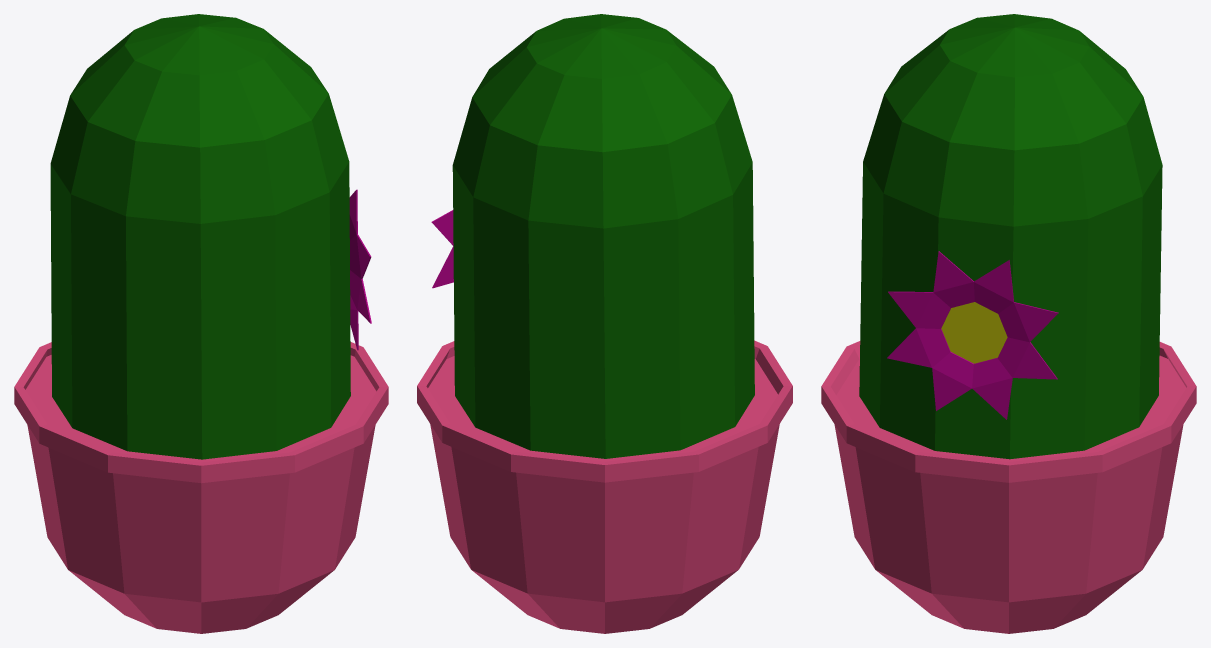
Rendered from cactus plant.fbx.
3 views of the same model, side by side, from view 1: azimuth 30°, elevation 25°; view 2: azimuth 150°, elevation 25°; view 3: azimuth 270°, elevation 25° (orthographic).
Parts seen in each view (by area): view 1: cactus plant; view 2: cactus plant; view 3: cactus plant.
Boxes of the visible parts, x1=… form: cactus plant: x1=14, y1=14, x2=388, y2=633; cactus plant: x1=417, y1=14, x2=792, y2=633; cactus plant: x1=821, y1=14, x2=1196, y2=633.
Bounding box in the file's own units: 0.1195 × 0.2 × 0.1195.
